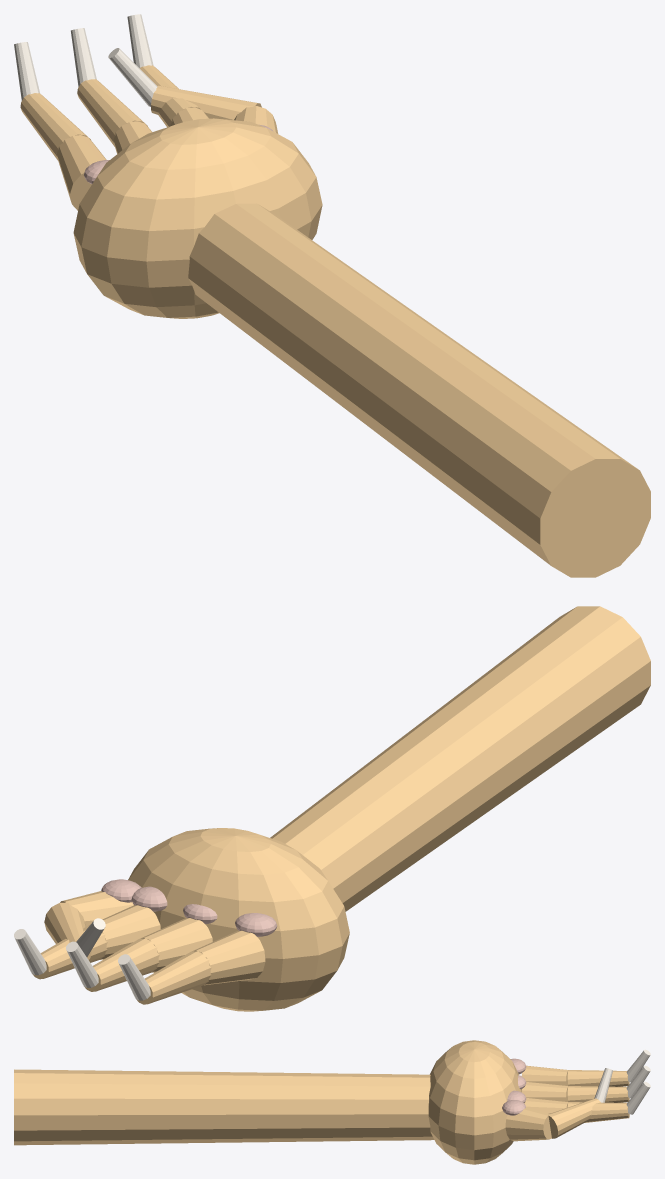
File: paw_sleek.glb
3 renders of one model, top to bottom at view 1: azimuth 30°, elevation 25°; view 2: azimuth 150°, elevation 25°; view 3: azimuth 270°, elevation 25°, orthographic. The views are drawn at different scales.
Parts seen in each view (by area): view 1: Paw; view 2: Paw; view 3: Paw.
Boxes of the visible parts, x1,y1,x2,y2 form: Paw: (14,14,650,577); Paw: (14,606,650,1011); Paw: (14,1040,650,1164).
Bounding box in the file's own units: 0.0627 × 0.0432 × 0.2352.
